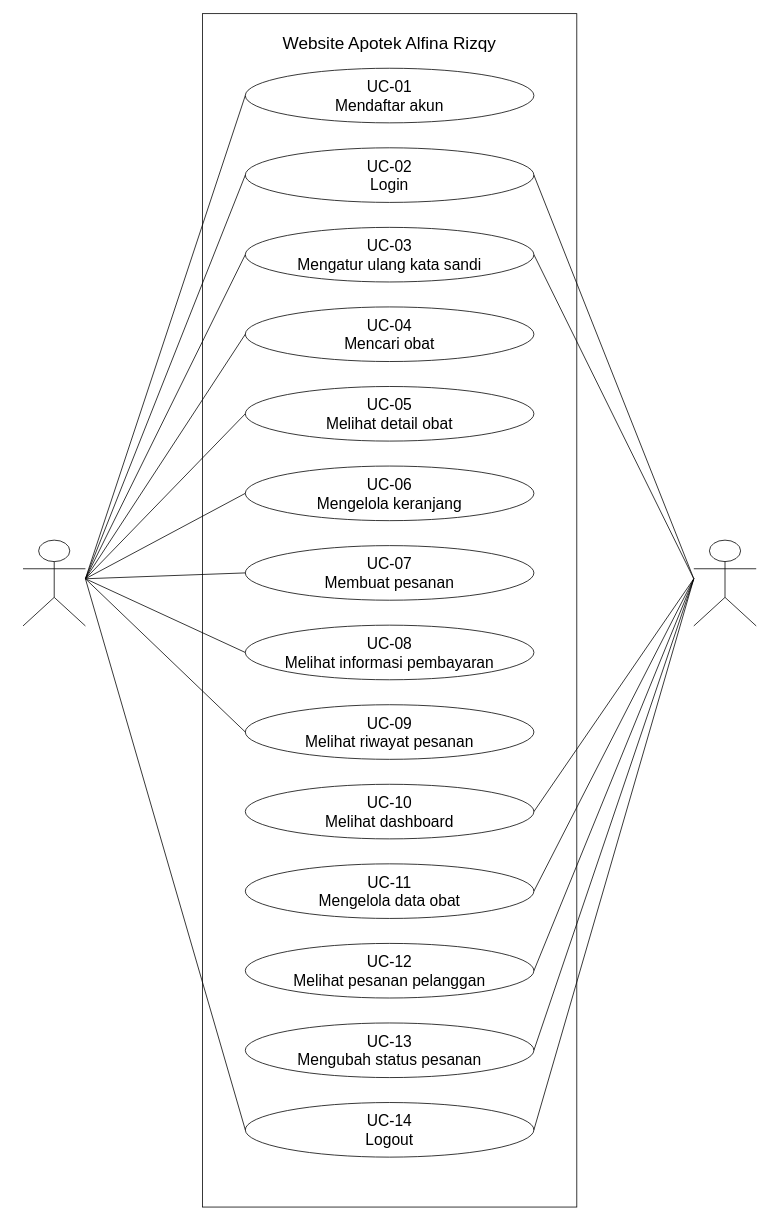
The diagram is 771 pixels wide and 1221 high, and some of its shapes have lost their labels. The shapes that lost their labels are listed below. From the top down, each one's centre as x and y in pixels, then its label:
the point at 53,582: Pelanggan
the point at 724,582: Admin
